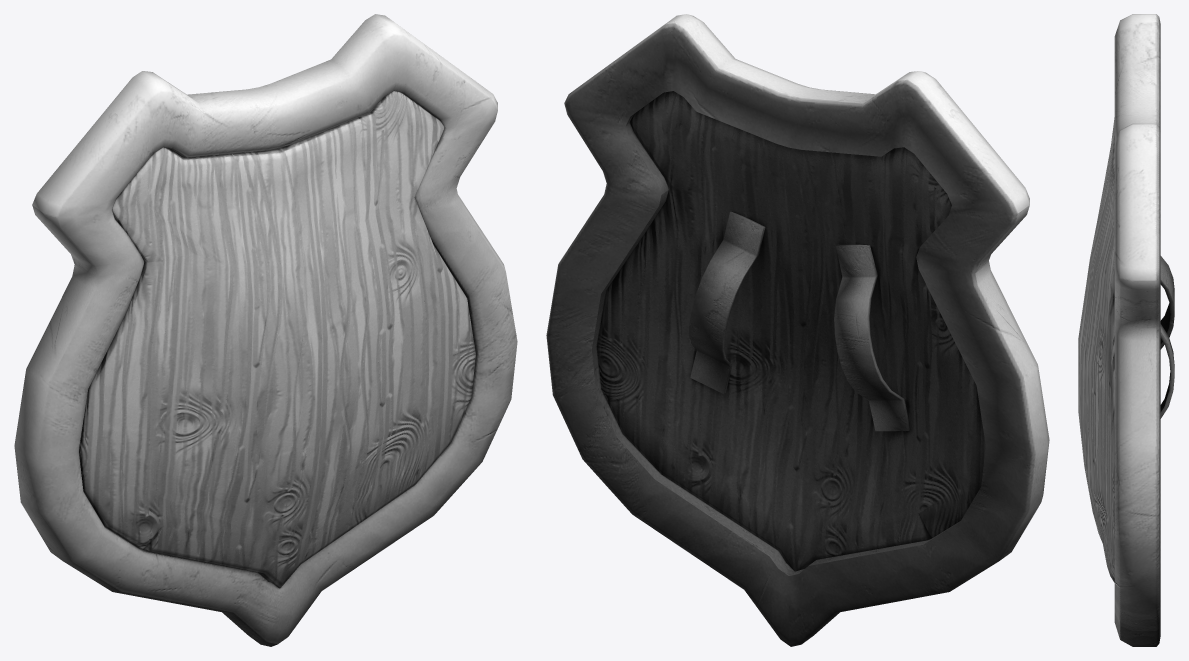
The model's file is PocaoEscudoBaked.glb.
3 views of the same model, side by side, from view 1: azimuth 30°, elevation 25°; view 2: azimuth 150°, elevation 25°; view 3: azimuth 270°, elevation 25° (orthographic). The views are drawn at different scales.
Visible parts, largest first — view 1: Metal; view 2: Metal; view 3: Metal.
Boxes of the visible parts, left/top/right/bottom form: Metal: left=14, top=14, right=517, bottom=646; Metal: left=546, top=14, right=1049, bottom=646; Metal: left=1078, top=14, right=1174, bottom=646.
Bounding box in the file's own units: 1.16 × 1.35 × 0.2054.
1 material, 1 textured.
